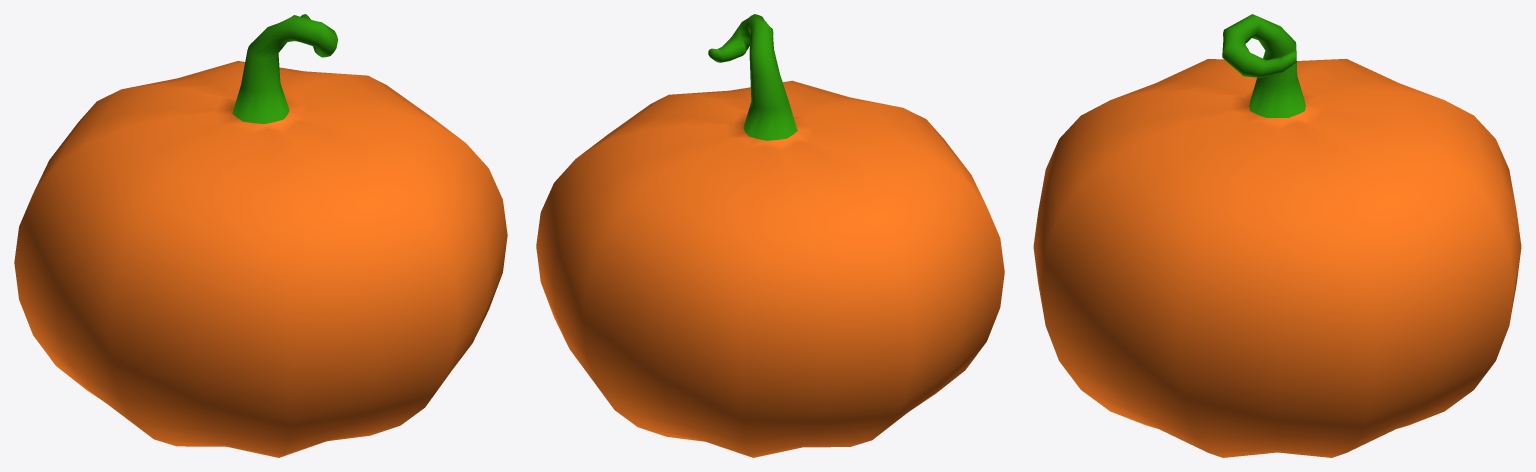
The model's file is PumpkinRaw.fbx.
3 renders of one model, left to right at view 1: azimuth 30°, elevation 25°; view 2: azimuth 150°, elevation 25°; view 3: azimuth 270°, elevation 25°, orthographic. The views are drawn at different scales.
Parts seen in each view (by area): view 1: Sphere.001; view 2: Sphere.001; view 3: Sphere.001.
Part boxes in pixels (x1,y1,x2,y2): Sphere.001: [14, 14, 507, 457]; Sphere.001: [536, 14, 1004, 457]; Sphere.001: [1033, 14, 1521, 457].
Bounding box in the file's own units: 200 × 186 × 200.
